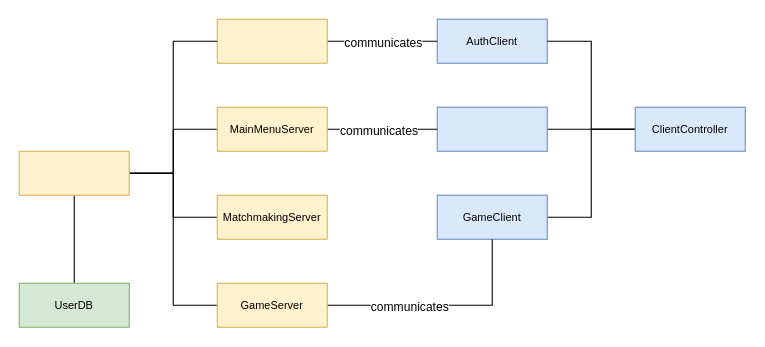
The diagram is 765 pixels wide and 347 high, and some of its shapes have lost their labels. The centre of each missing label's shape, as x and y in pixels:
AuthServer: the point at 271,40
MainMenuClient: the point at 491,128
ServerController: the point at 73,172
